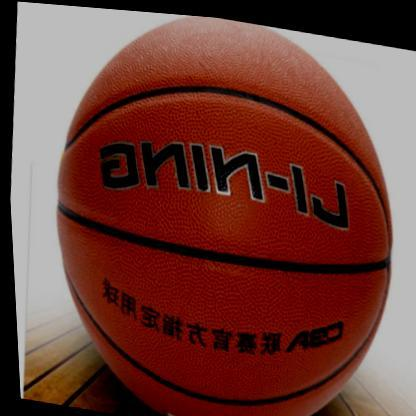basketball: (28, 2, 415, 416)
